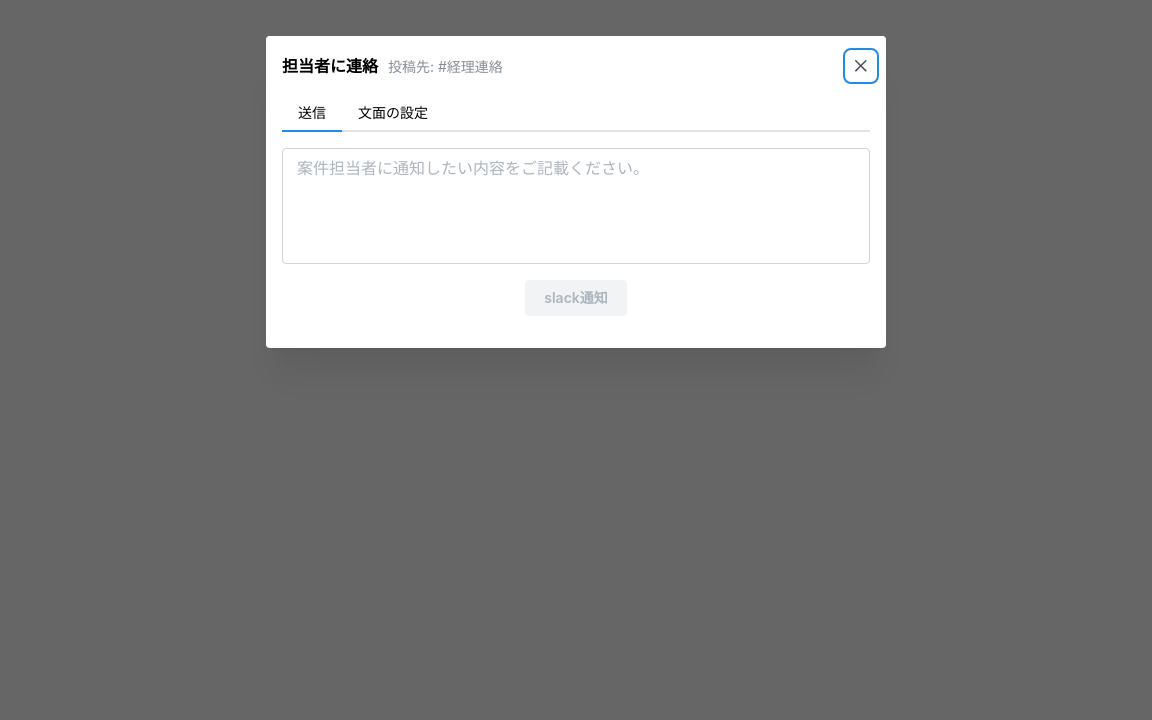
Test: NotificationMessage（担当者に連絡モーダル） › 「投稿先チャンネルは変更できません。」の記述が残っていない
The image size is (1152, 720).
Click the tab "文面の設定" at {"x": 393, "y": 114}, box x1=342 y1=96 x2=444 y2=132
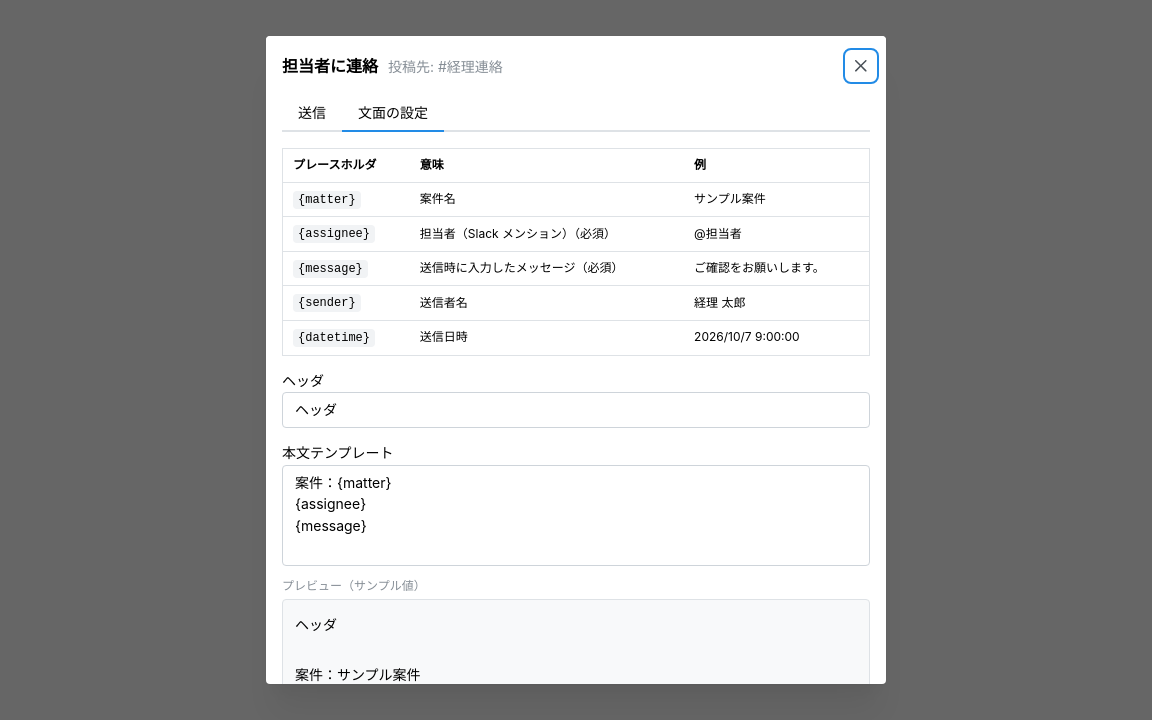
expect the text box showing "ヘッダ" is shown: met, box x1=282 y1=392 x2=870 y2=428
